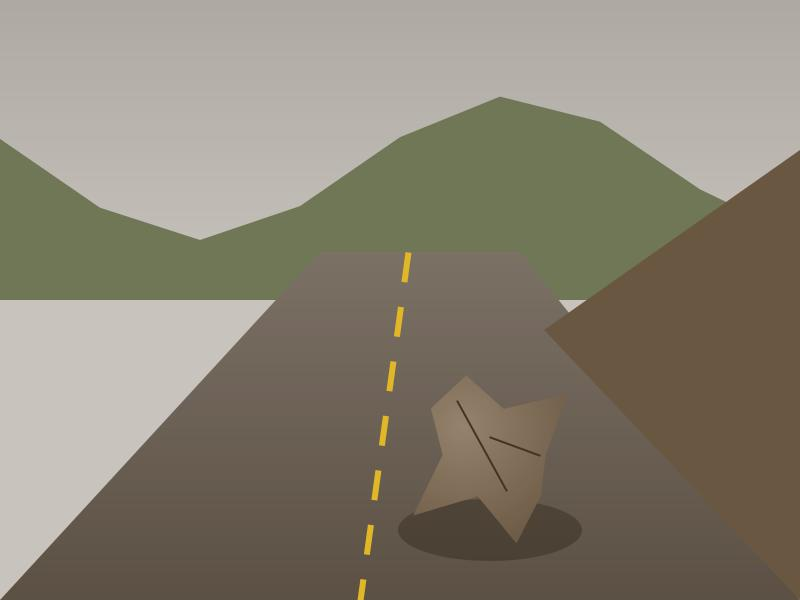ROAD_OBSTACLE: (408, 366, 572, 544)
